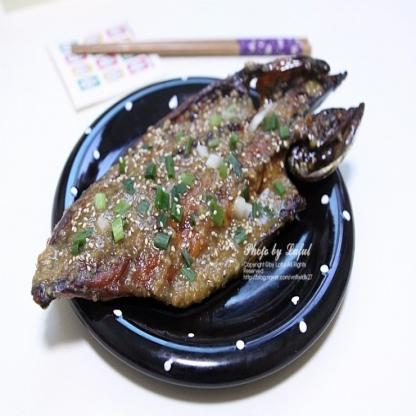Peixe: (23, 57, 366, 344)
